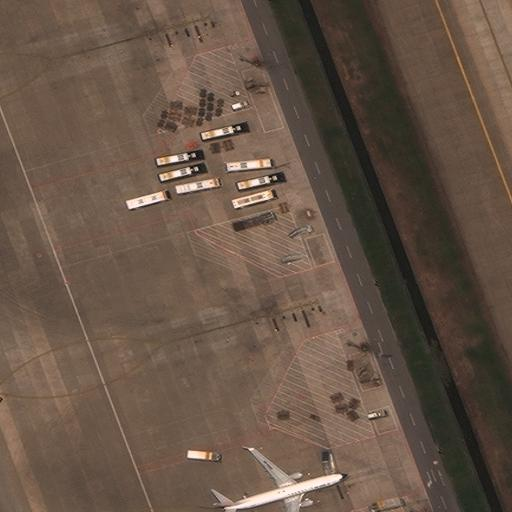Medium Civil Transport: (221, 445, 347, 511)
